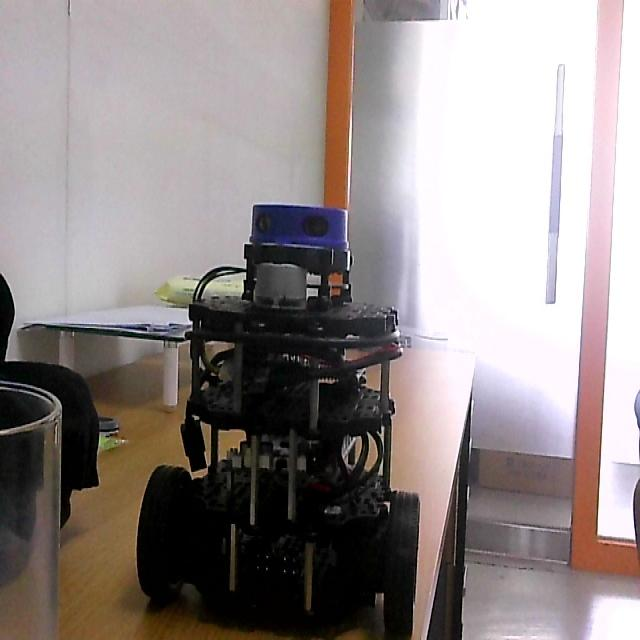turtle: (133, 201, 422, 640)
